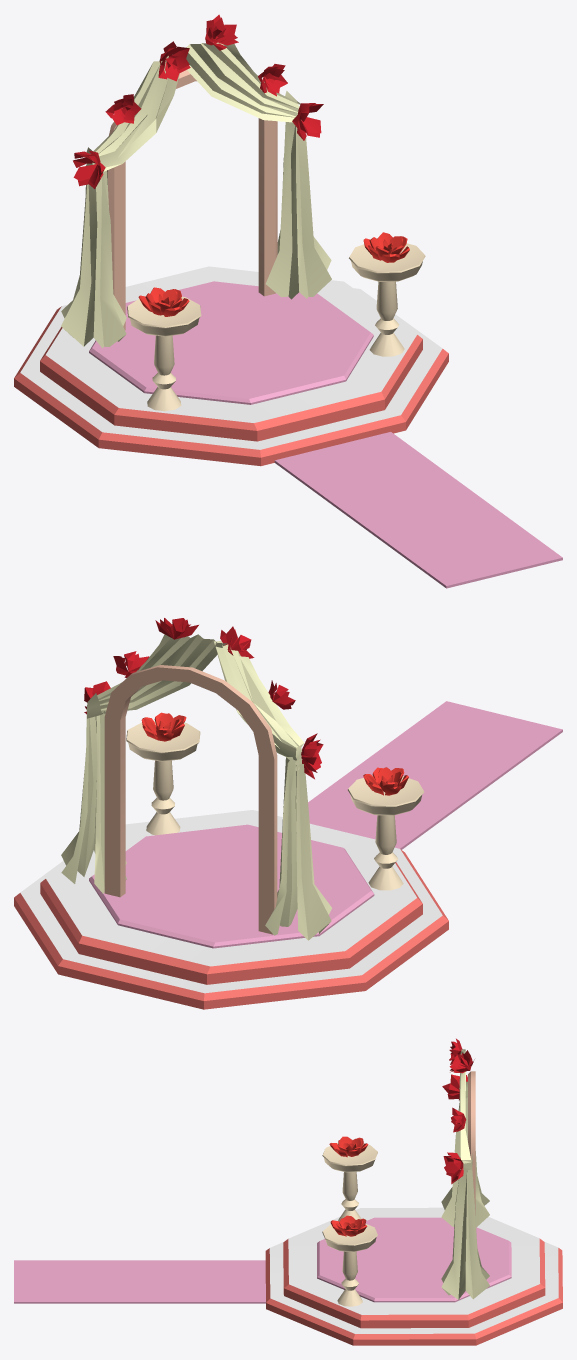
File: bridal_dais.fbx
3 views of the same model, one above another, from view 1: azimuth 30°, elevation 25°; view 2: azimuth 150°, elevation 25°; view 3: azimuth 270°, elevation 25° (orthographic). The views are drawn at different scales.
Visible parts, largest first — view 1: base, arc, carpet, sidetableflower_b, sidetableflower; view 2: base, arc, carpet, sidetableflower, sidetableflower_b; view 3: base, carpet, arc, sidetableflower_b, sidetableflower.
Boxes of the visible parts, x1,y1,x2,y2 form: base: (14, 266, 448, 466); arc: (61, 14, 331, 348); carpet: (274, 432, 562, 588); sidetableflower_b: (349, 232, 425, 356); sidetableflower: (127, 287, 201, 411); base: (14, 810, 448, 1009); arc: (61, 618, 331, 940); carpet: (308, 701, 562, 849); sidetableflower: (348, 767, 424, 890); sidetableflower_b: (126, 712, 200, 835); base: (265, 1207, 562, 1345); carpet: (14, 1260, 265, 1303); arc: (441, 1038, 489, 1299); sidetableflower_b: (322, 1215, 377, 1306); sidetableflower: (322, 1136, 377, 1221).
Size of the model in its own units: 33.64 by 29.6 by 62.09.
